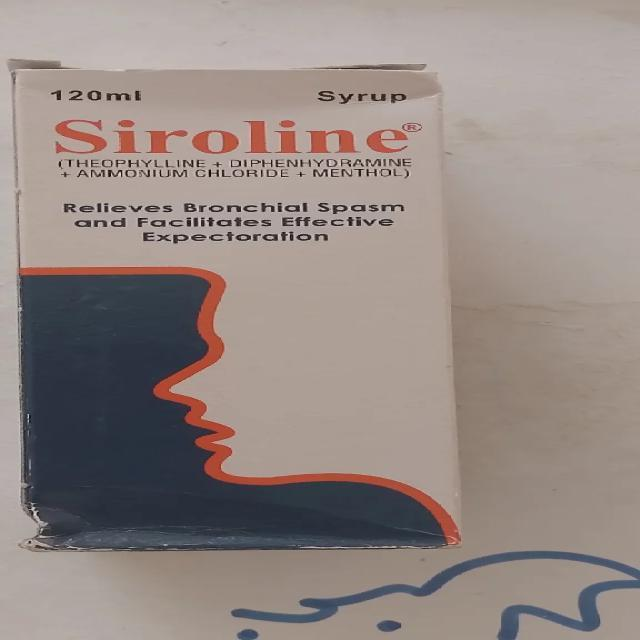drug-name: (52, 114, 408, 156)
